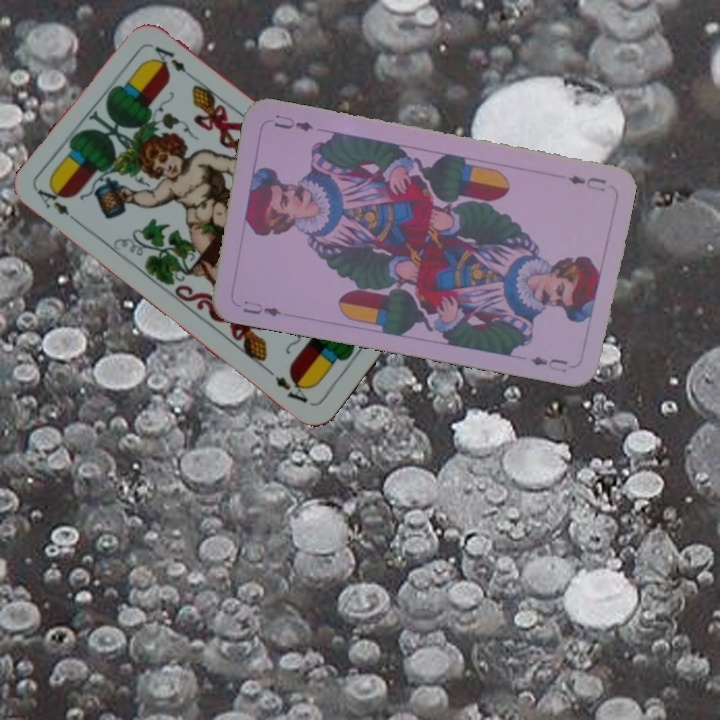EA: (33, 183, 83, 228)
EU: (239, 296, 284, 320), (564, 171, 609, 194)
